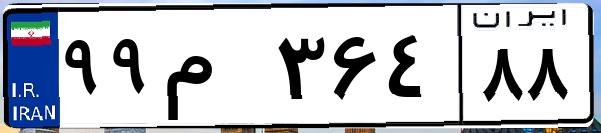3: (270, 28, 330, 110)
4: (385, 28, 445, 110)
6: (330, 28, 385, 110)
8: (475, 38, 525, 113), (525, 38, 570, 115)
9: (57, 26, 110, 100), (110, 28, 158, 98)
م: (158, 20, 270, 120)
